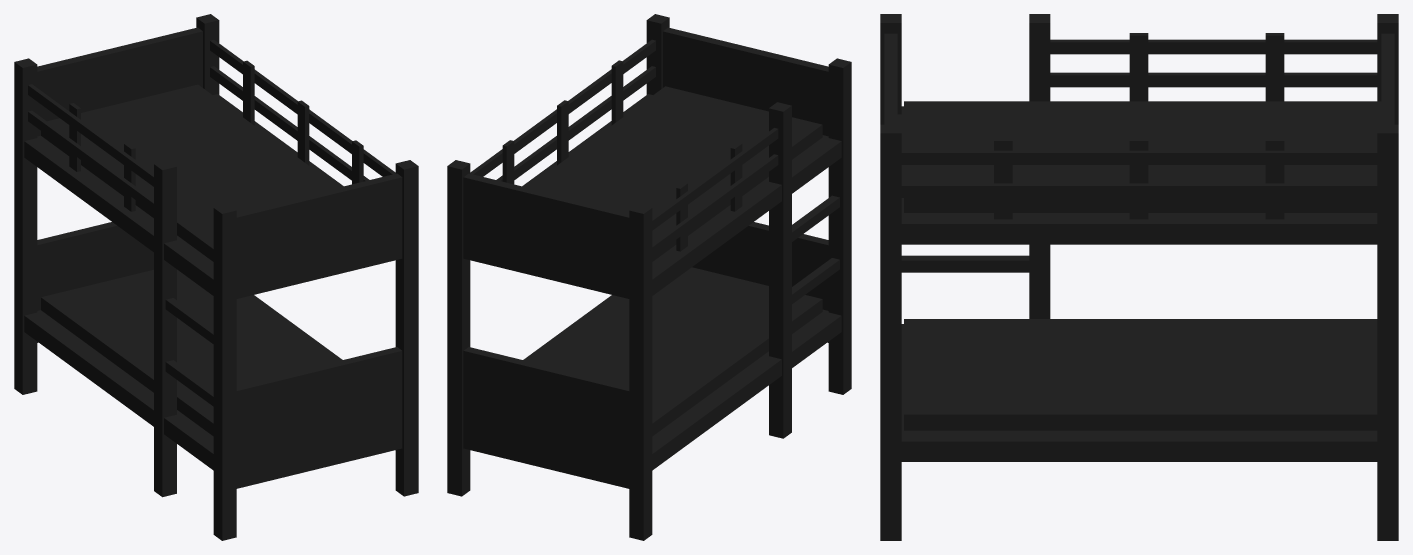
The model's file is Itr_Bed_Bunk1_02.FBX.
The picture shows the model from 3 angles, left to right: view 1: azimuth 30°, elevation 25°; view 2: azimuth 150°, elevation 25°; view 3: azimuth 270°, elevation 25°; orthographic projection. The views are drawn at different scales.
Parts seen in each view (by area): view 1: Itr_Bed_Bunk1_02; view 2: Itr_Bed_Bunk1_02; view 3: Itr_Bed_Bunk1_02.
Boxes of the visible parts, bbox=[...] form: Itr_Bed_Bunk1_02: bbox=[14, 14, 418, 540]; Itr_Bed_Bunk1_02: bbox=[447, 14, 851, 540]; Itr_Bed_Bunk1_02: bbox=[880, 14, 1398, 540].
Size of the model in its own units: 52.88 by 84.09 by 96.88.
